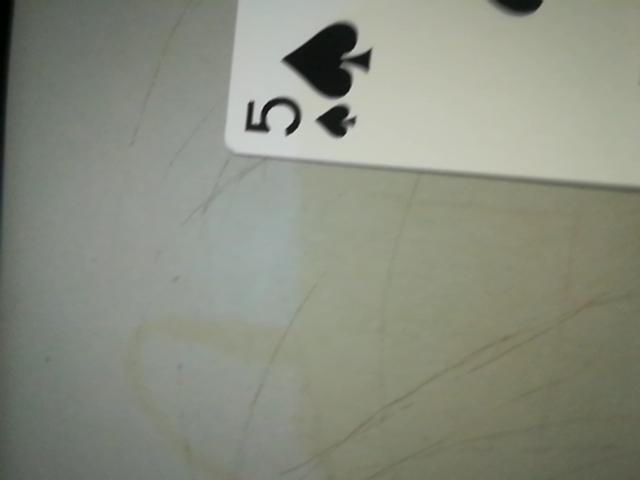ht 5: (230, 71, 383, 159)
